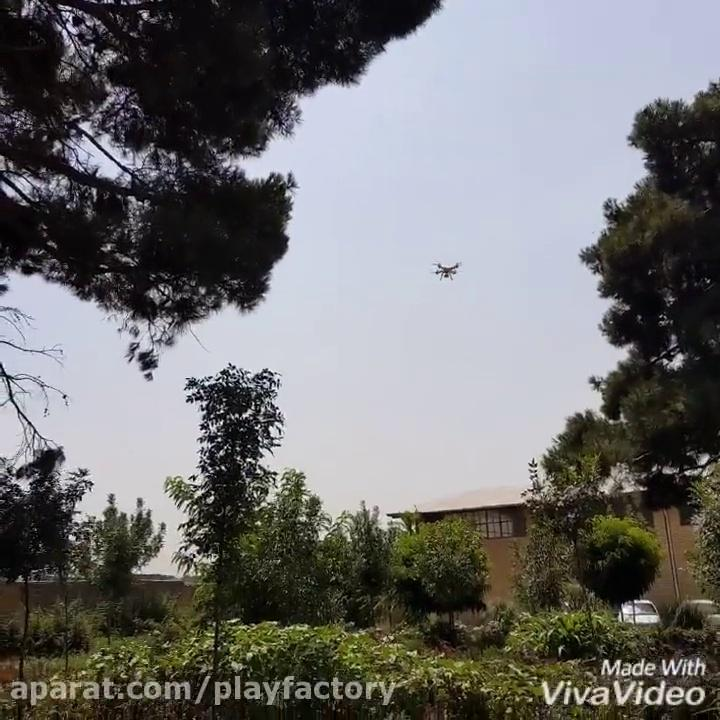drone: (430, 256, 467, 282)
